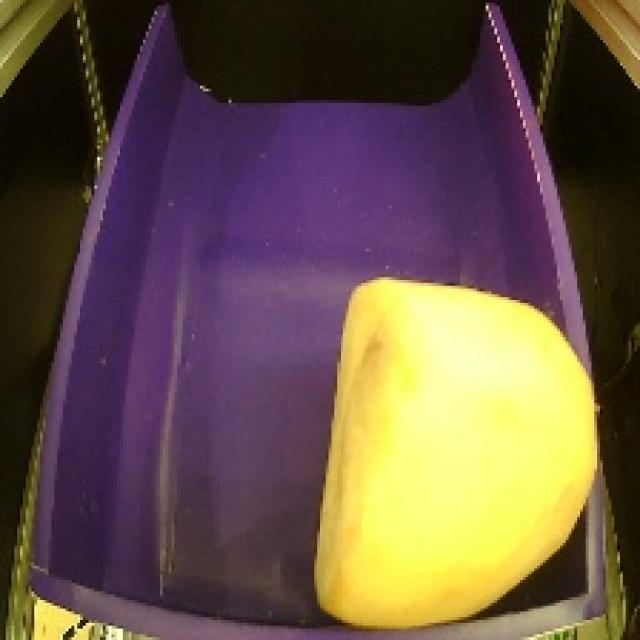full_potato: (293, 263, 610, 640)
